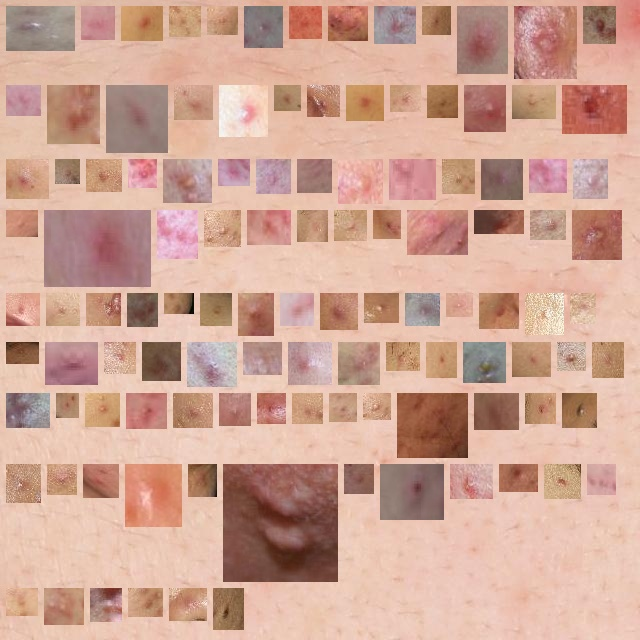papule: (231, 472, 330, 574), (52, 218, 143, 279), (405, 401, 460, 450), (522, 14, 569, 71), (114, 93, 160, 145), (133, 472, 174, 519), (388, 472, 436, 512), (465, 14, 500, 66), (570, 93, 619, 126), (55, 93, 92, 136), (14, 14, 67, 43), (415, 218, 460, 247), (227, 93, 260, 129), (580, 218, 614, 252), (53, 350, 90, 377), (195, 350, 229, 379), (171, 167, 204, 195), (346, 167, 375, 196), (165, 218, 190, 251), (472, 93, 498, 124), (397, 167, 428, 192), (296, 350, 324, 377), (346, 350, 372, 377), (471, 350, 498, 375), (489, 167, 515, 192), (14, 167, 41, 191), (482, 401, 511, 422), (252, 14, 275, 40), (533, 301, 556, 327), (382, 14, 408, 36), (246, 301, 266, 328), (255, 218, 283, 237), (14, 401, 42, 420), (150, 350, 173, 373), (458, 472, 485, 491), (482, 218, 516, 233), (520, 93, 548, 111), (52, 596, 76, 617), (134, 401, 159, 421), (129, 14, 155, 33), (487, 301, 511, 321), (328, 301, 350, 322), (336, 14, 360, 33), (581, 167, 600, 191), (181, 401, 205, 420), (212, 218, 233, 239), (354, 93, 376, 113), (182, 93, 205, 112), (520, 350, 543, 369), (14, 472, 33, 495), (552, 472, 573, 491), (537, 167, 559, 185), (251, 350, 274, 367), (221, 596, 236, 622), (591, 14, 608, 36), (177, 596, 199, 613), (264, 167, 283, 186), (570, 401, 589, 420), (91, 472, 111, 490), (507, 469, 530, 484), (305, 167, 324, 185), (93, 401, 112, 419), (94, 167, 114, 184), (89, 14, 107, 32), (450, 167, 467, 186), (94, 301, 113, 318), (413, 301, 432, 318), (600, 350, 616, 370), (14, 301, 32, 318), (54, 301, 72, 318), (288, 301, 306, 318), (434, 350, 449, 370), (297, 14, 314, 31), (98, 596, 114, 614), (14, 93, 33, 108), (538, 218, 558, 232), (315, 93, 332, 109), (208, 301, 224, 318), (227, 401, 243, 418), (135, 301, 150, 319), (372, 301, 391, 315), (112, 350, 128, 366), (435, 93, 450, 110), (342, 218, 359, 233), (136, 596, 155, 609), (177, 14, 193, 29), (305, 218, 320, 234), (394, 350, 412, 363), (300, 401, 315, 416), (533, 401, 548, 416), (196, 472, 209, 489), (55, 472, 69, 487), (352, 472, 366, 486), (215, 14, 230, 27), (265, 401, 278, 416), (595, 472, 608, 487), (14, 596, 30, 608), (226, 167, 242, 178), (14, 218, 30, 229), (430, 14, 443, 27), (136, 167, 149, 180), (565, 350, 578, 363), (398, 93, 413, 104), (381, 218, 393, 231), (337, 401, 349, 414), (578, 301, 588, 316), (371, 401, 383, 412), (282, 93, 293, 103), (454, 301, 465, 309), (63, 167, 72, 176), (64, 401, 71, 410)
